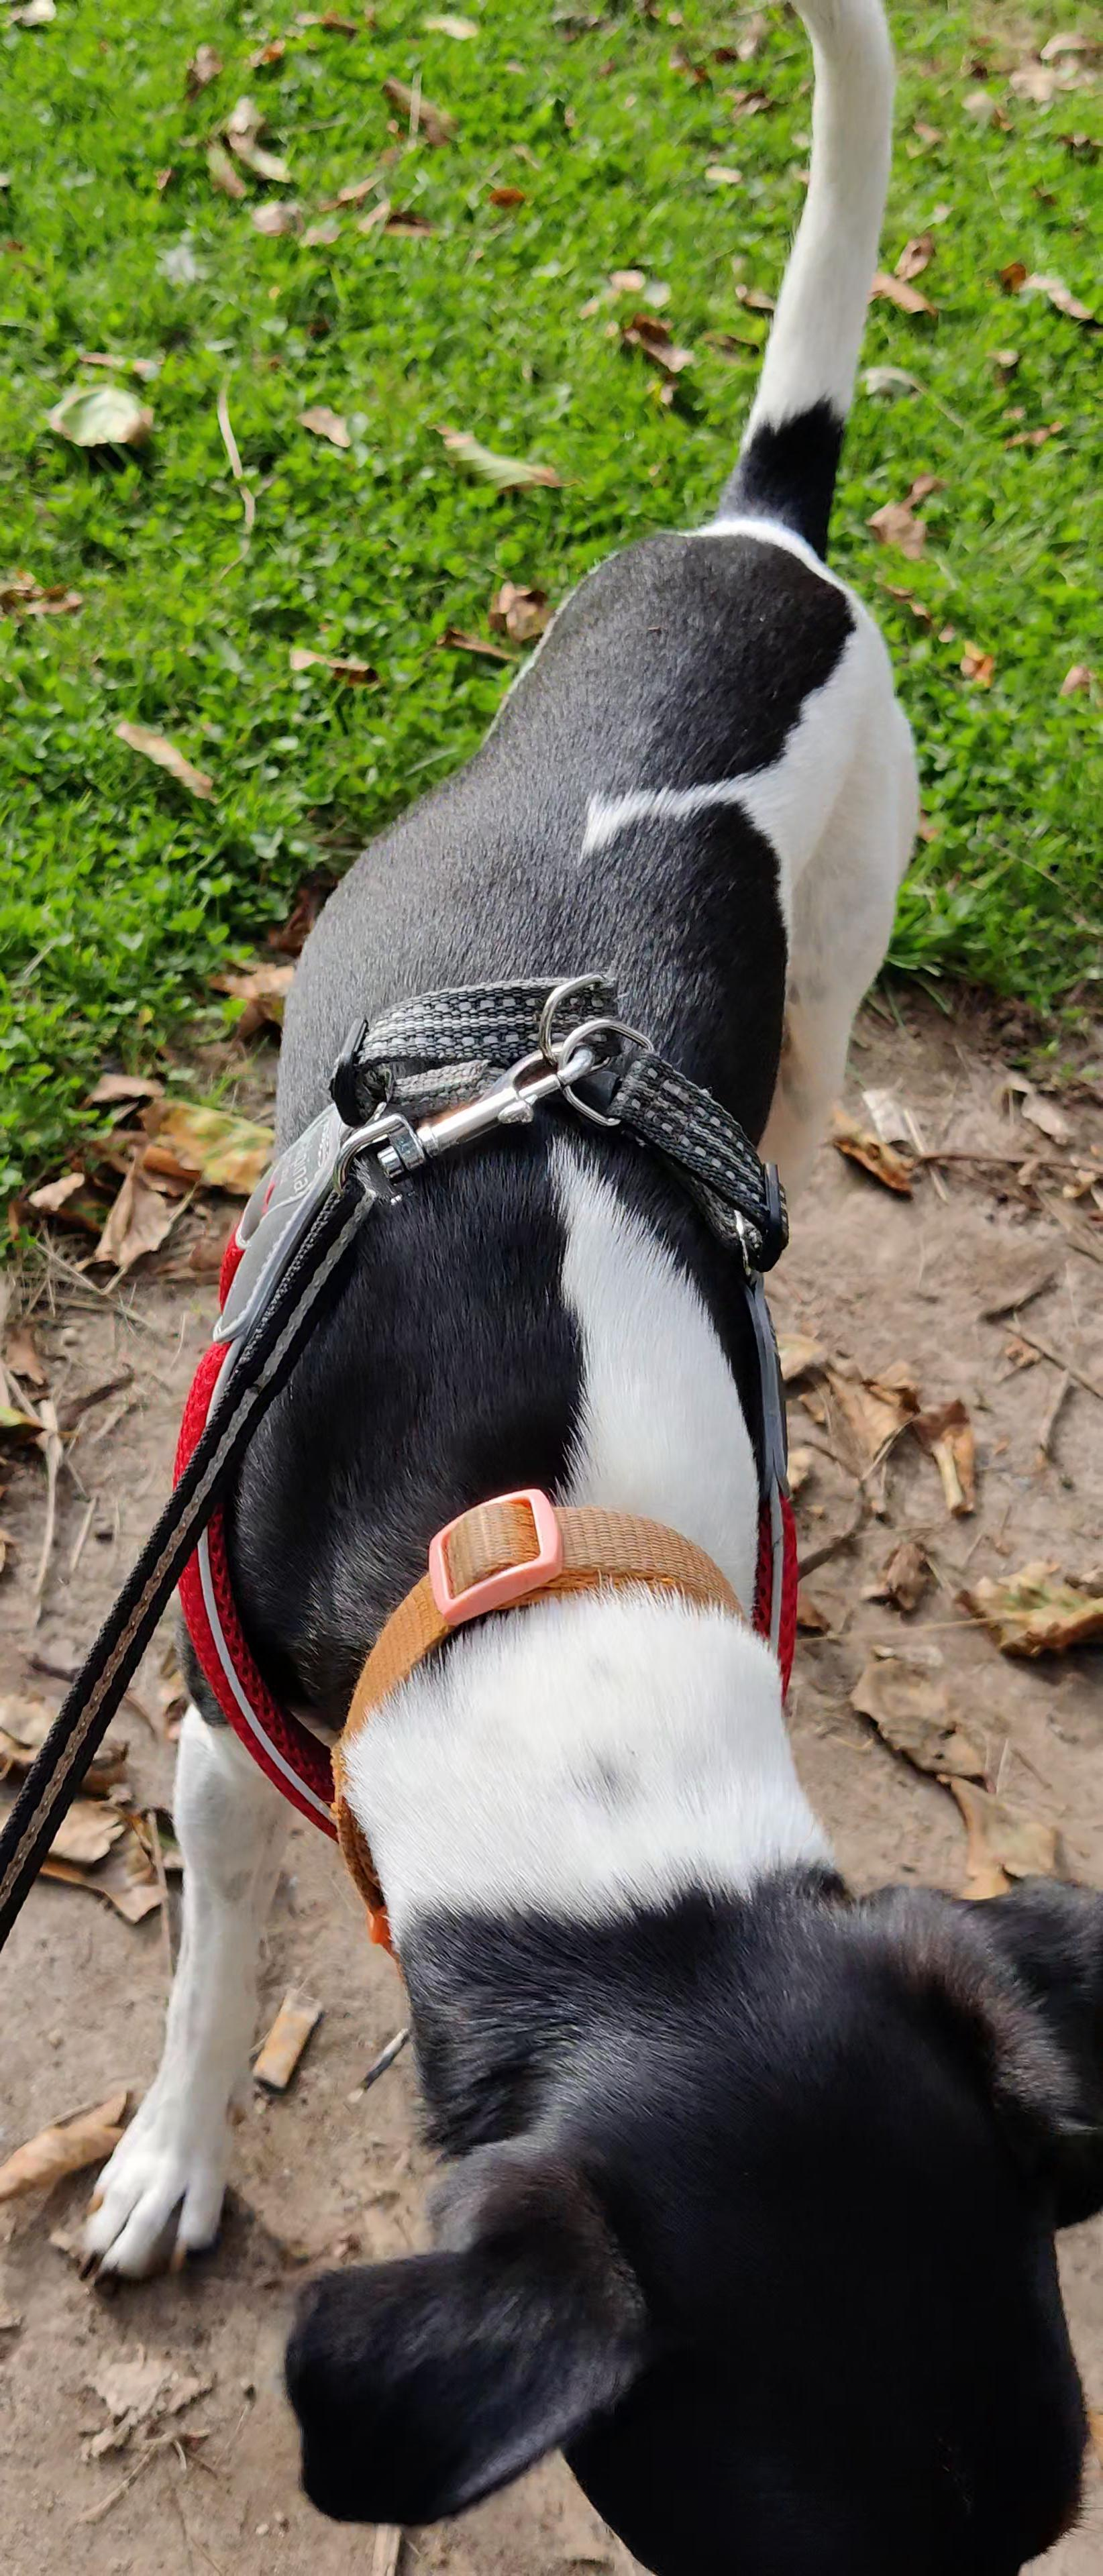Dog: (54, 0, 1103, 2576)
